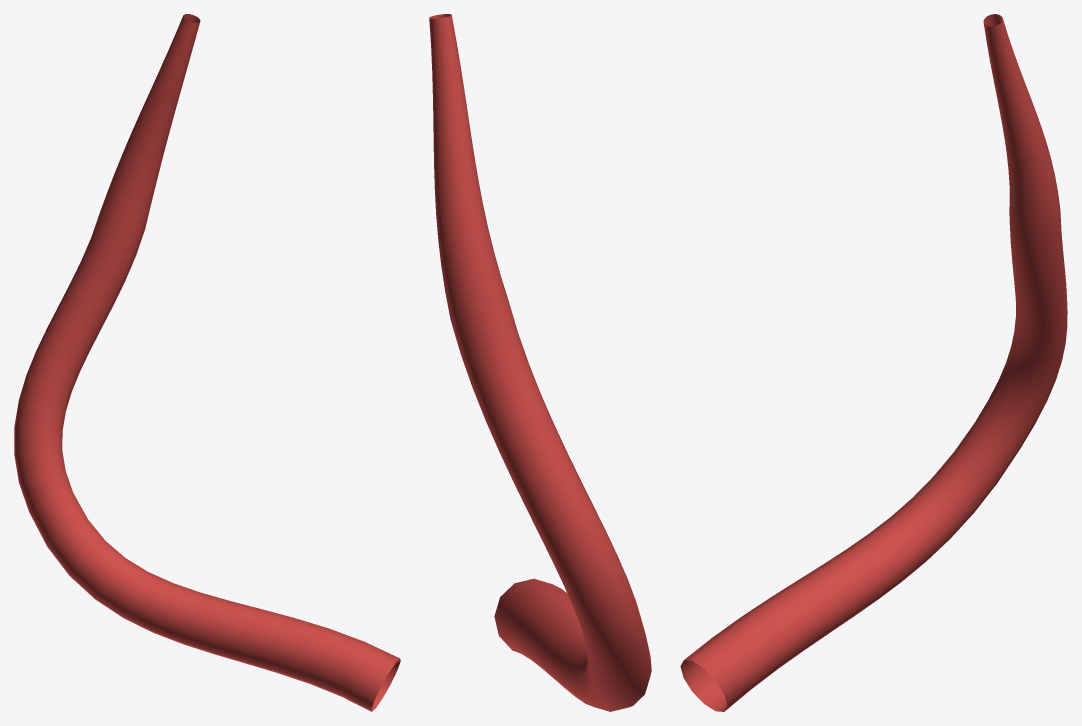
3 renders of one model, left to right at view 1: azimuth 30°, elevation 25°; view 2: azimuth 150°, elevation 25°; view 3: azimuth 270°, elevation 25°, orthographic. The views are drawn at different scales.
Visible parts, largest first — view 1: 右侧胫后动脉跟支; view 2: 右侧胫后动脉跟支; view 3: 右侧胫后动脉跟支.
Boxes of the visible parts, x1=… form: 右侧胫后动脉跟支: x1=14, y1=14, x2=400, y2=711; 右侧胫后动脉跟支: x1=429, y1=14, x2=651, y2=711; 右侧胫后动脉跟支: x1=680, y1=14, x2=1067, y2=711.
Size of the model in its own units: 0.0136 by 0.0326 by 0.0173.
